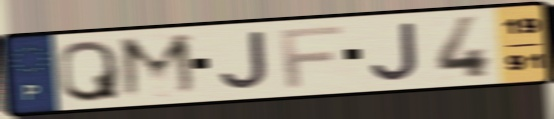4: (433, 13, 497, 81)
F: (276, 23, 345, 90)
J: (367, 20, 422, 83), (217, 29, 270, 92)
M: (116, 31, 203, 102)
Q: (58, 37, 124, 104)
